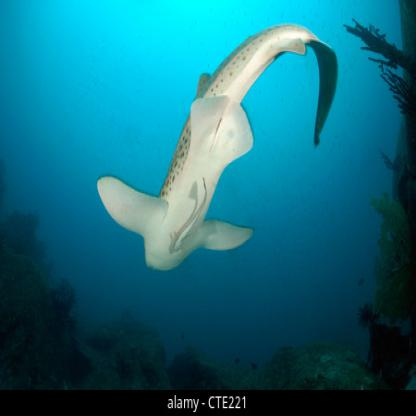zebra_shark: (89, 21, 350, 284)
